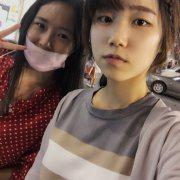NONE: (90, 5, 157, 81)
WRONG: (22, 13, 76, 67)
